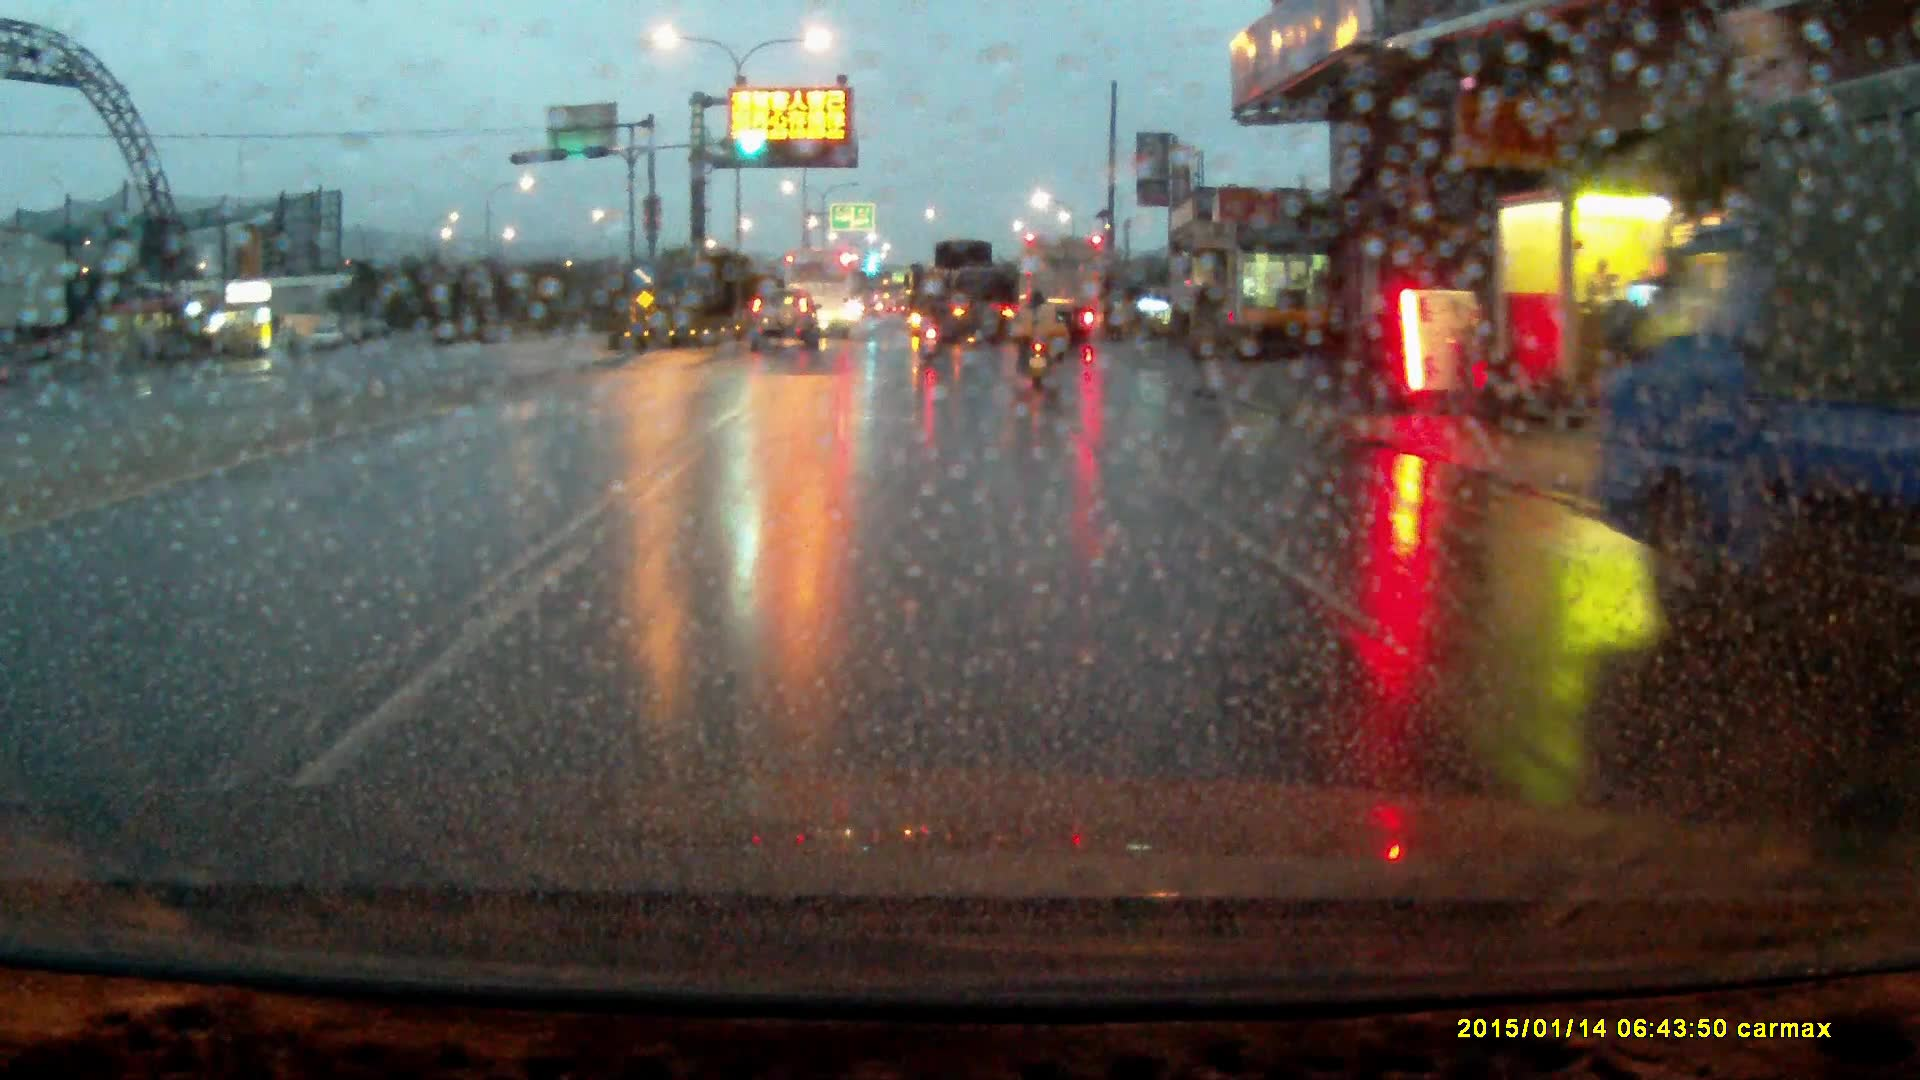rider: (1018, 287, 1057, 392), (918, 286, 944, 362)
vehicle: (1591, 140, 1920, 622), (920, 238, 1024, 346), (1022, 235, 1105, 346), (783, 246, 857, 332), (749, 280, 818, 344)
